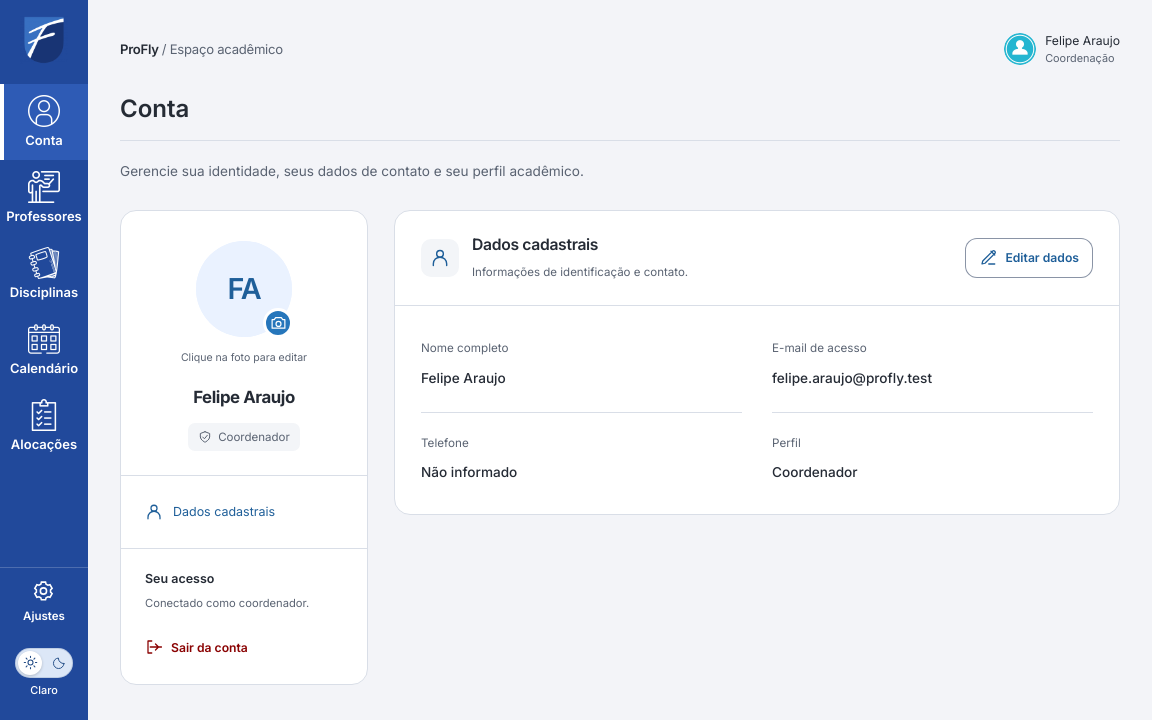
Test: Conta › editar informações › entra no modo de edição com nome, e-mail e telefone editáveis e perfil protegido
Expected: the text "felipe.araujo@profly.test" is shown, [772,370,932,386]
What coordinates should you click on to do the following:
click the button "Editar dados"
I would click on:
 (1029, 258)
Its box is [965,238,1093,278].
(page scrolled)
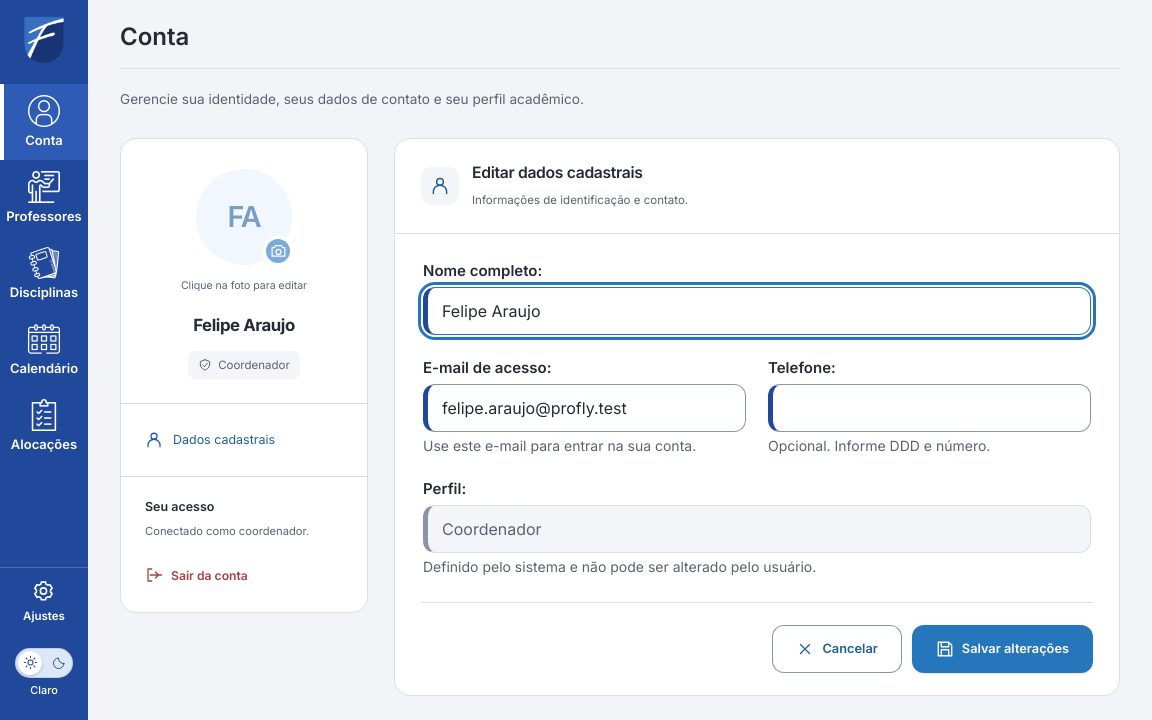
Expected: the field labelled "Nome completo:" holds "Felipe Araujo", [428,288,1090,334]
Expected: the field labelled "E-mail de acesso:" holds "felipe.araujo@profly.test", [428,385,745,431]
Expected: the button "Salvar alterações" is shown, [912,625,1093,673]
